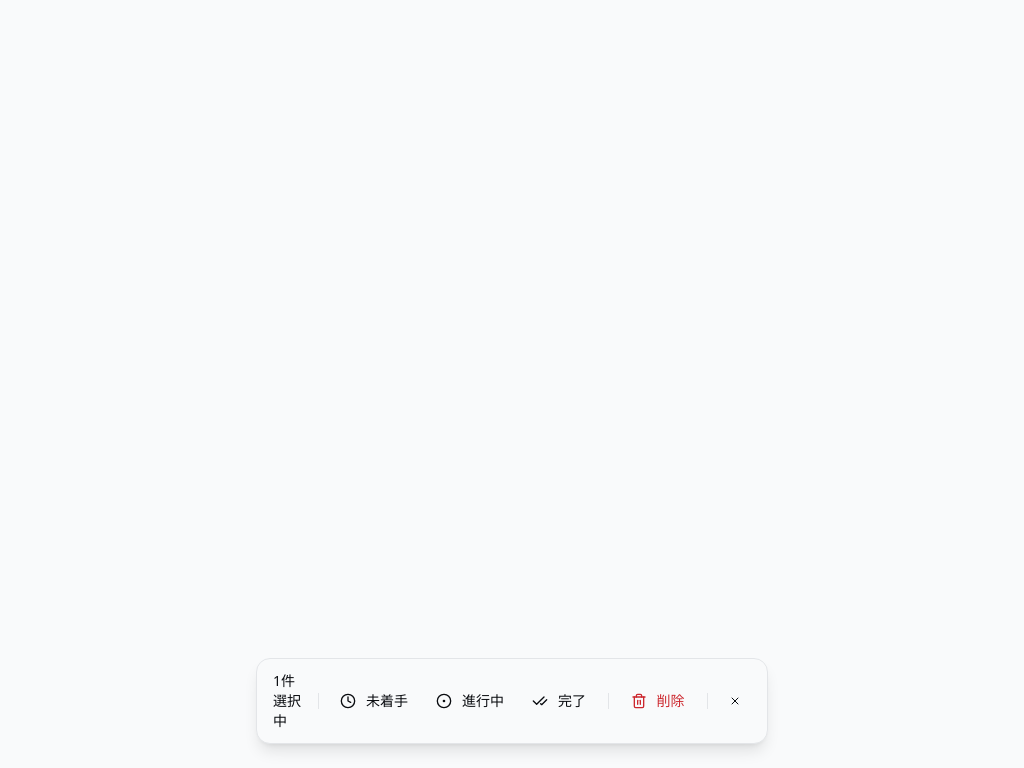
Test: BulkActionBar › 削除ボタンクリックで確認ダイアログが開く
The image size is (1024, 768).
Step 1. Click the button "削除" → (658, 701), box left=621, top=685, right=695, bottom=717
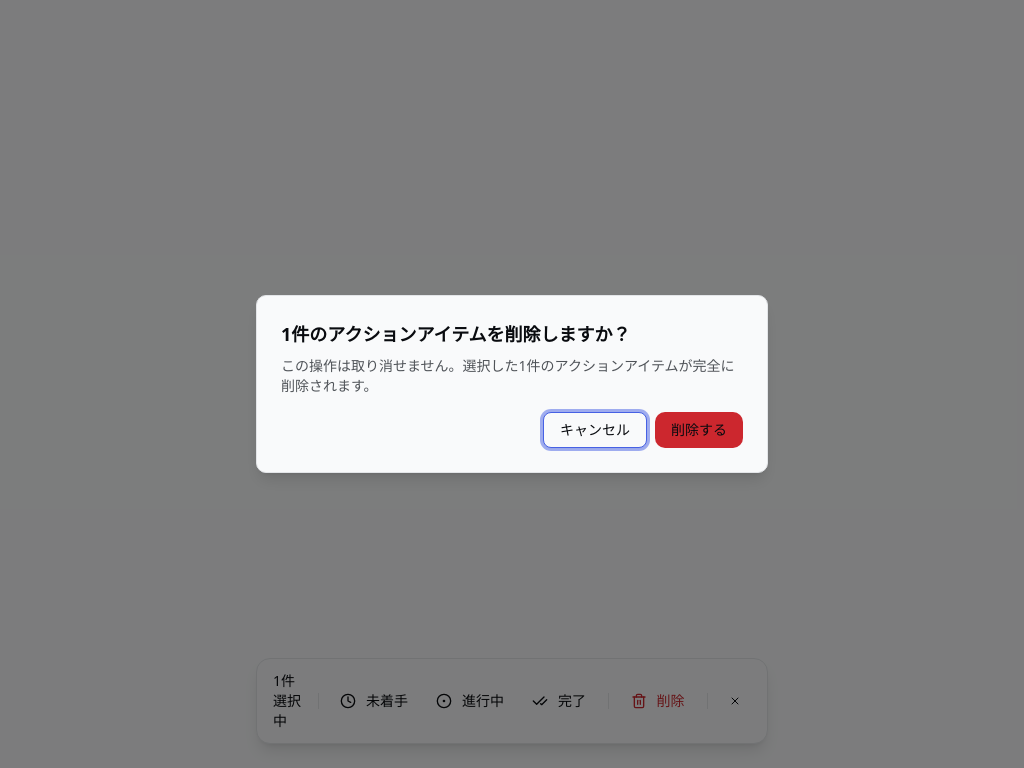
Check: the text "この操作は取り消せません。選択した1件のアクションアイテムが完全に削除されます。" is shown, box left=281, top=356, right=743, bottom=396
